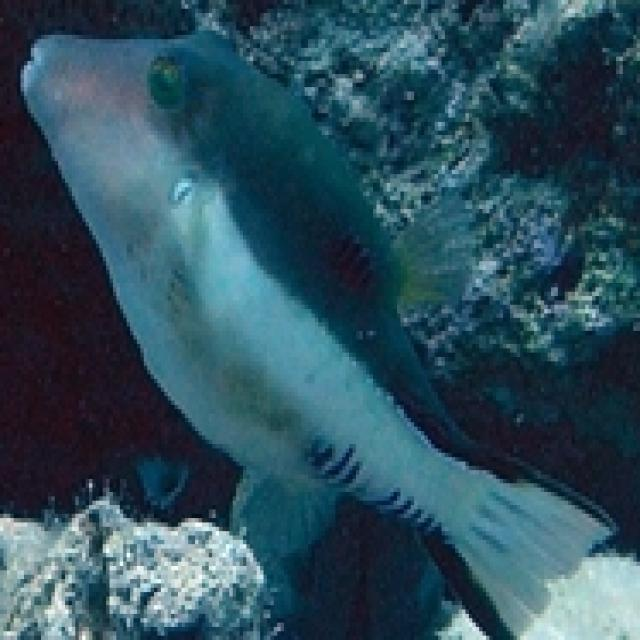fish: (0, 4, 637, 640)
